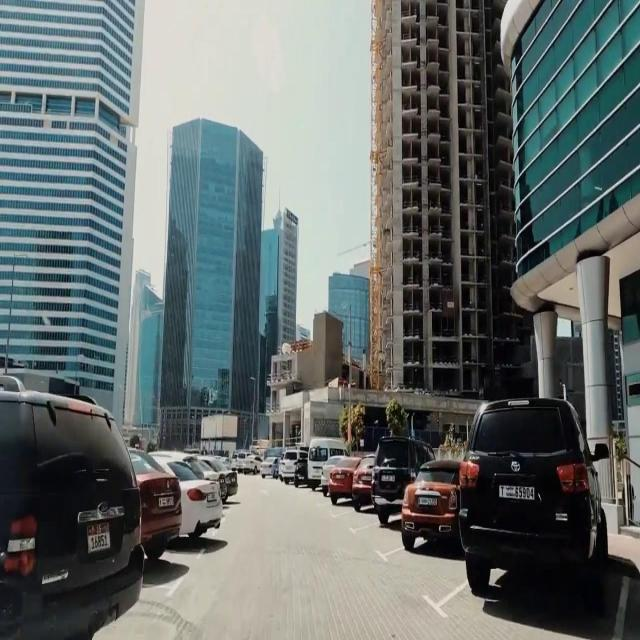License-plate: (85, 518, 113, 558), (499, 484, 536, 501)
